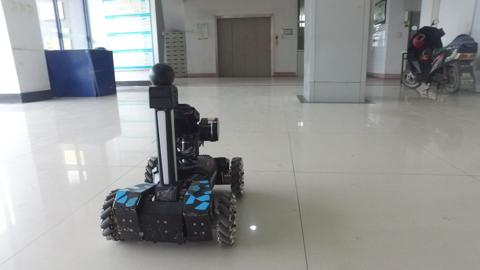chariot: (90, 55, 254, 254)
